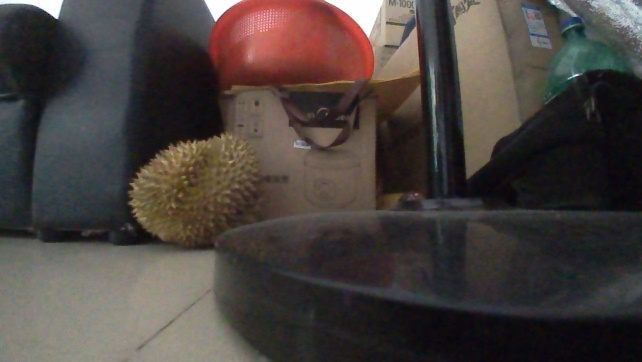chair_base: (210, 180, 641, 361)
sofa1: (0, 0, 216, 245)
